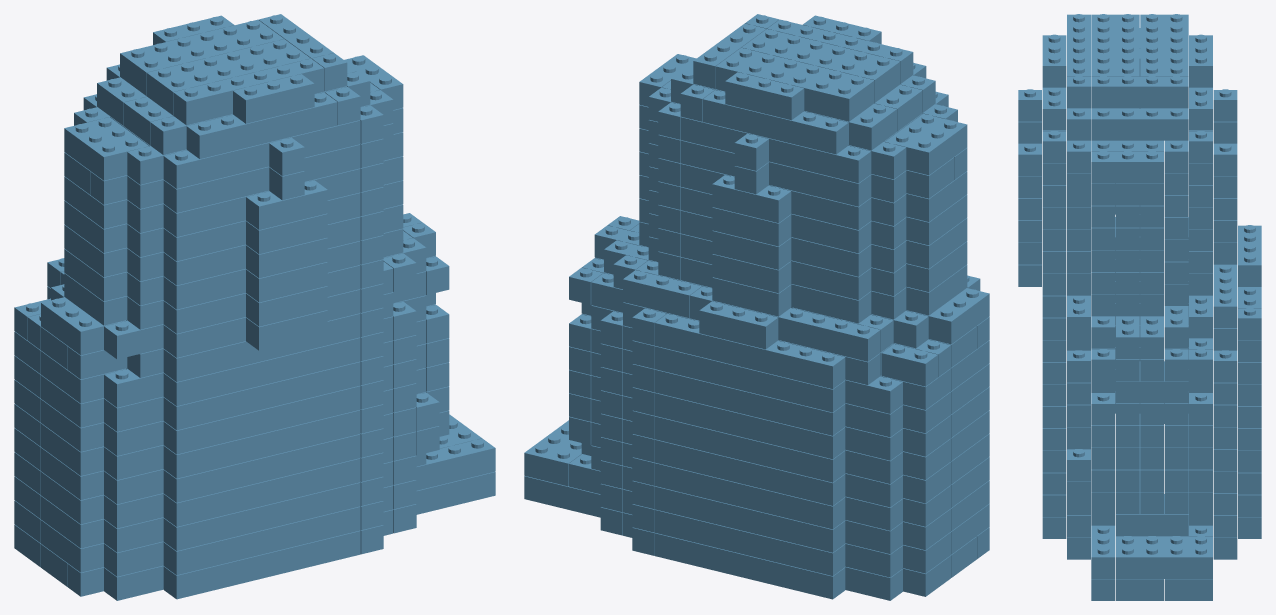
File: 127_camera_L2.glb
The picture shows the model from 3 angles, left to right: view 1: azimuth 30°, elevation 25°; view 2: azimuth 150°, elevation 25°; view 3: azimuth 270°, elevation 25°; orthographic projection. The views are drawn at different scales.
Bounding box in the file's own units: 17.98 × 20.13 × 9.98.
